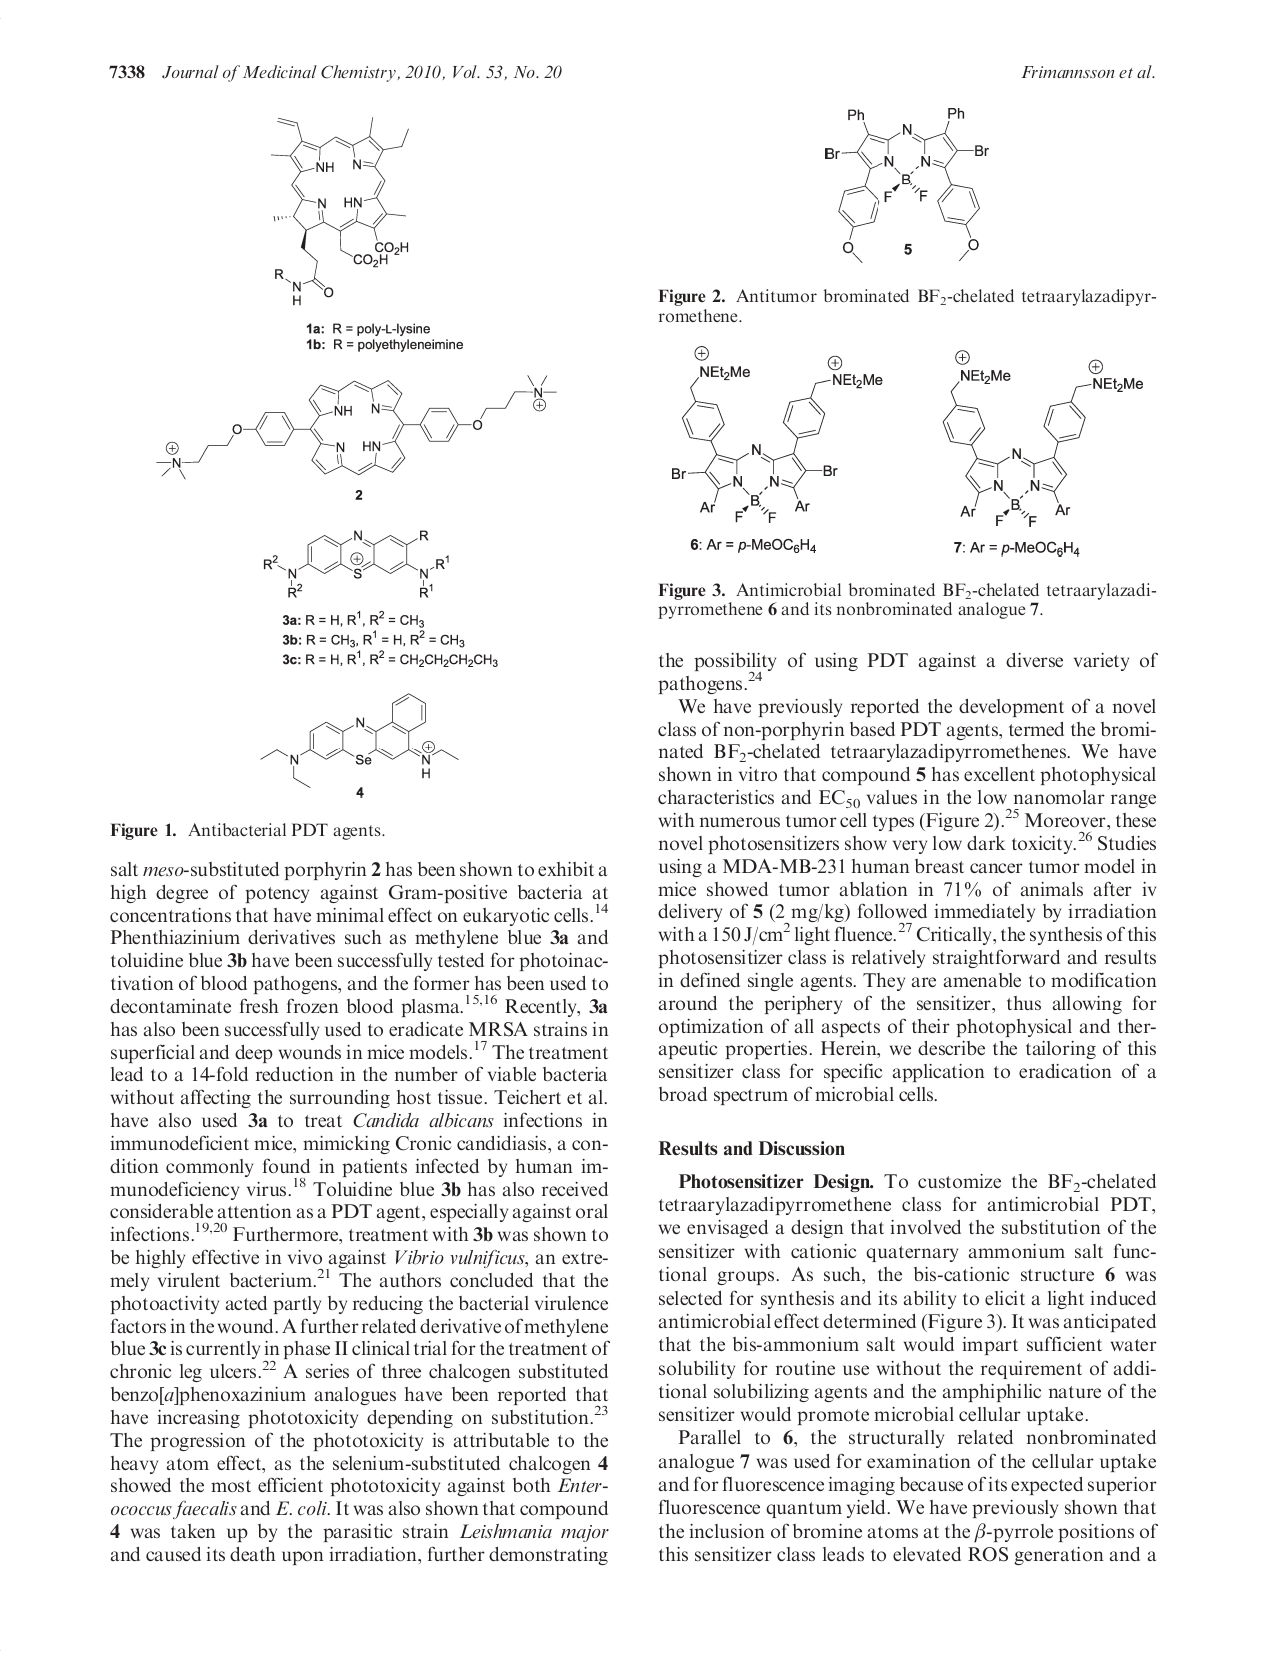exist_molecular: (154, 368, 559, 481), (668, 342, 883, 523), (942, 348, 1144, 527), (270, 112, 411, 307), (823, 106, 988, 265), (261, 692, 460, 789), (261, 527, 449, 598)
